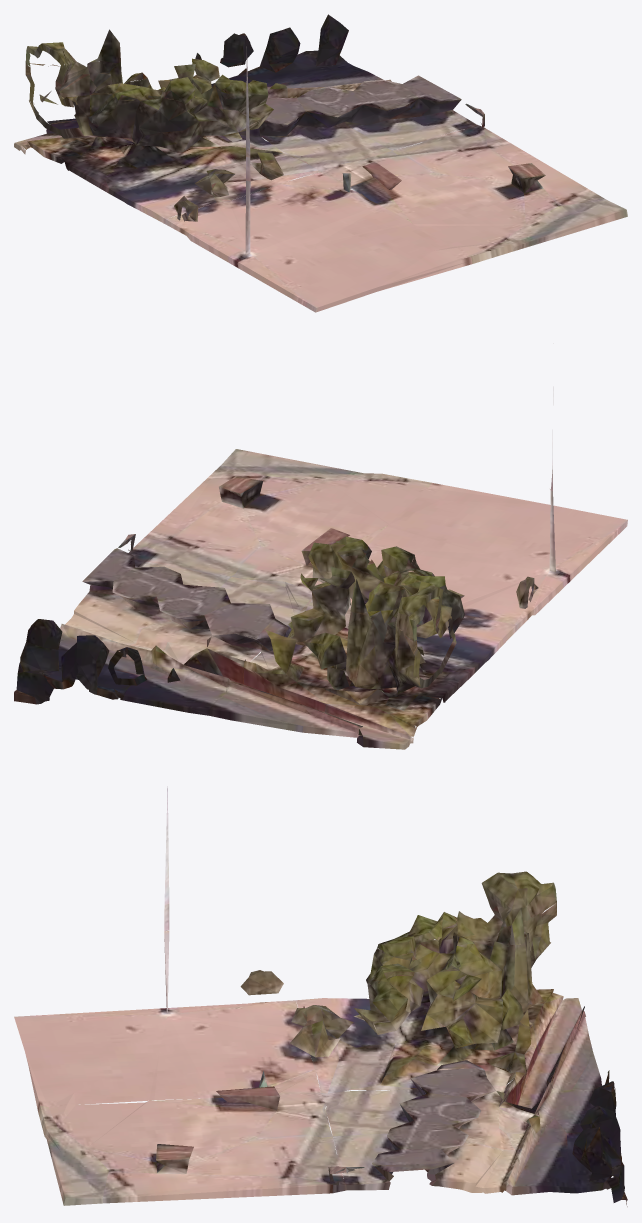
The picture shows the model from 3 angles, top to bottom: view 1: azimuth 30°, elevation 25°; view 2: azimuth 150°, elevation 25°; view 3: azimuth 270°, elevation 25°; orthographic projection. The views are drawn at different scales.
Visible parts, largest first — view 1: Mesh_0; view 2: Mesh_0; view 3: Mesh_0.
Part boxes in pixels (box(x1,y1,x2,y2)): Mesh_0: box(14, 14, 627, 312); Mesh_0: box(14, 343, 627, 749); Mesh_0: box(14, 786, 627, 1206).
Bounding box in the file's own units: 66.57 × 40.84 × 82.56.
Materials: 1 (1 with a texture image).
